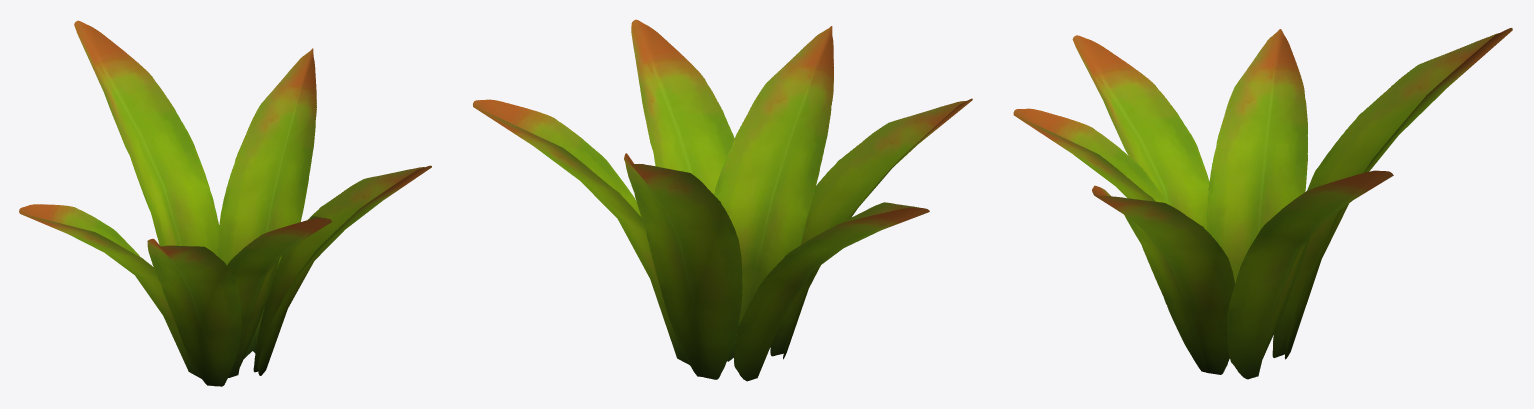
Rendered from Plant_1.gltf.
3 renders of one model, left to right at view 1: azimuth 30°, elevation 25°; view 2: azimuth 150°, elevation 25°; view 3: azimuth 270°, elevation 25°, orthographic. The views are drawn at different scales.
Parts seen in each view (by area): view 1: Plant_1; view 2: Plant_1; view 3: Plant_1.
Boxes of the visible parts, bbox=[...] form: Plant_1: bbox=[19, 20, 431, 386]; Plant_1: bbox=[473, 19, 972, 381]; Plant_1: bbox=[1013, 28, 1512, 379].
Bounding box in the file's own units: 1.27 × 1.01 × 1.39.
Materials: 1 (1 with a texture image).
